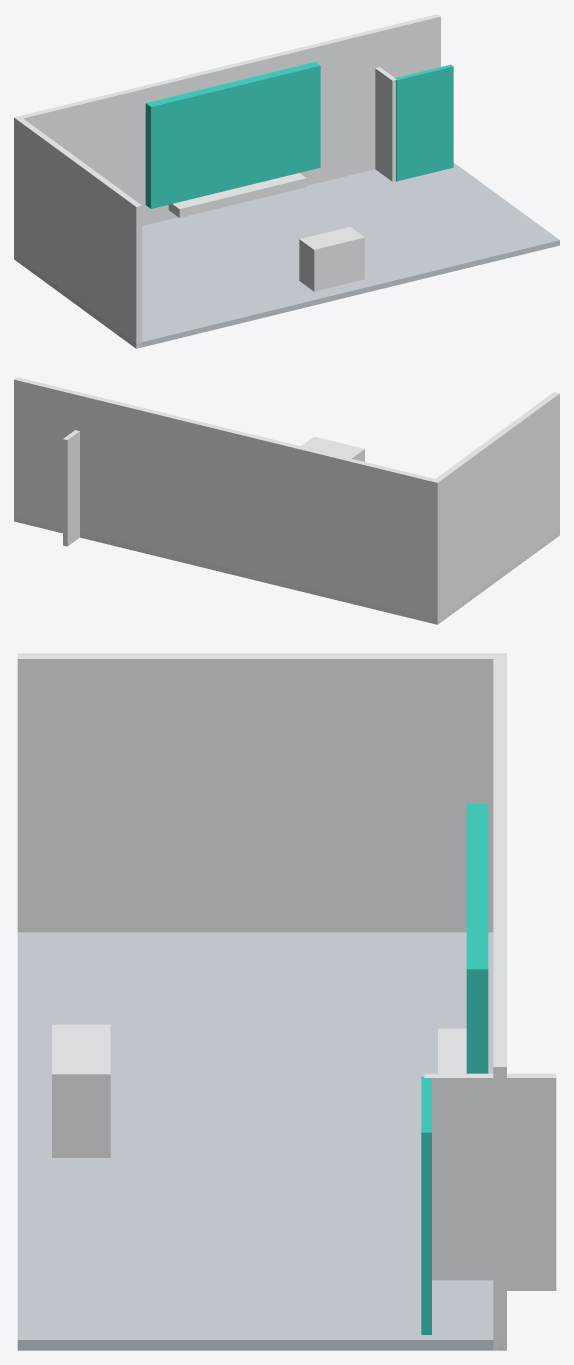
3 renders of one model, top to bottom at view 1: azimuth 30°, elevation 25°; view 2: azimuth 150°, elevation 25°; view 3: azimuth 270°, elevation 25°, orthographic. The views are drawn at different scales.
Parts seen in each view (by area): view 1: Exhibition Booth Concept; view 2: Exhibition Booth Concept; view 3: Exhibition Booth Concept.
Boxes of the visible parts, <box> form: Exhibition Booth Concept: <box>14,14,559,348</box>; Exhibition Booth Concept: <box>14,377,559,624</box>; Exhibition Booth Concept: <box>17,653,556,1350</box>.
Size of the model in its own units: 10 by 3.2 by 5.51.
